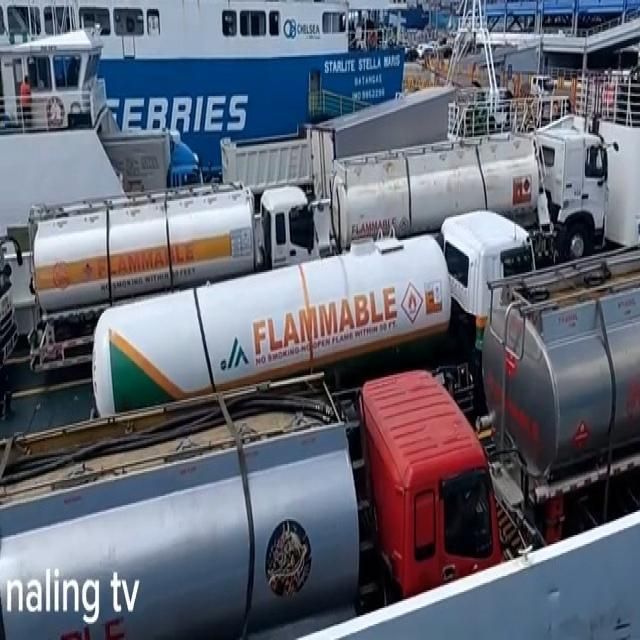truck: (0, 369, 501, 640), (92, 208, 536, 424), (20, 179, 318, 367), (330, 117, 614, 290), (479, 245, 640, 544)
